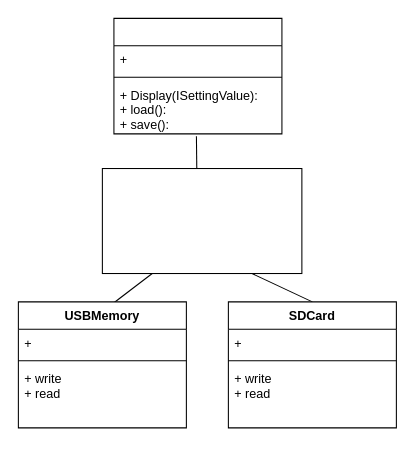
Image size: 415x449. Some labels were removed from this diagram. Each missing label, with the box of its shape:
<<Interface>> ISettingValue + write + read: (101, 167, 302, 274)
SettingValueDisplay: (113, 17, 282, 134)
